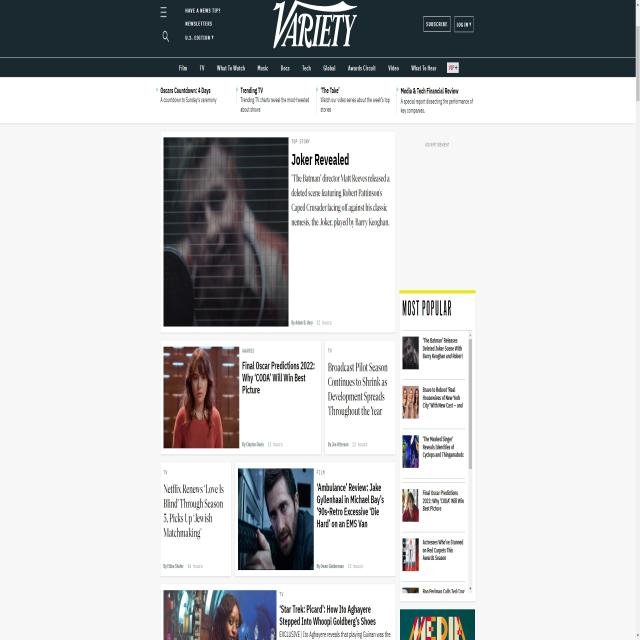menu-bar: (418, 11, 477, 35)
tab-bar: (152, 72, 477, 124), (176, 58, 462, 74), (183, 6, 221, 38)
